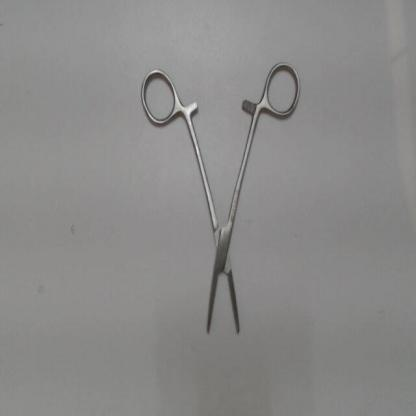Mayo Needle Holder: (137, 54, 306, 348)
